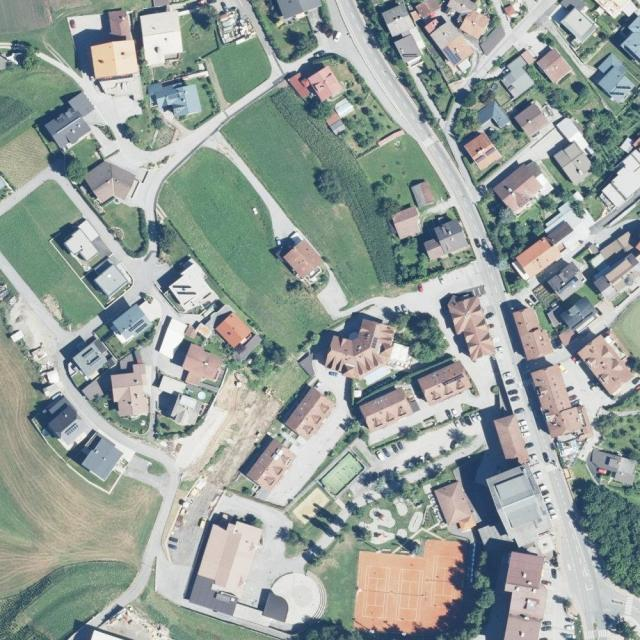building: (188, 515, 263, 618), (562, 315, 640, 405), (485, 462, 557, 552), (529, 359, 594, 450), (323, 312, 397, 387), (67, 6, 139, 78), (153, 253, 222, 323), (444, 288, 498, 364), (491, 156, 555, 219), (32, 393, 93, 456), (238, 433, 299, 495), (505, 552, 546, 639), (79, 155, 138, 213), (283, 386, 337, 443), (510, 231, 568, 284), (108, 351, 151, 420), (428, 18, 480, 75), (588, 52, 640, 107), (510, 303, 555, 362), (139, 11, 185, 68), (358, 387, 414, 433), (417, 360, 473, 406), (42, 103, 93, 153), (147, 75, 201, 122), (529, 363, 574, 419), (60, 218, 109, 267), (76, 432, 124, 482), (210, 2, 257, 51), (179, 343, 226, 392), (494, 54, 541, 101), (89, 38, 139, 82), (492, 413, 531, 469), (432, 479, 476, 528), (551, 140, 596, 187), (108, 304, 153, 348), (72, 338, 117, 382), (555, 115, 596, 161), (282, 238, 325, 281), (546, 261, 589, 303), (305, 64, 346, 106), (462, 131, 503, 173), (214, 311, 255, 352), (559, 6, 599, 46), (98, 73, 145, 107), (535, 46, 574, 86), (433, 218, 471, 259), (473, 99, 512, 138), (514, 101, 552, 140), (168, 392, 205, 431), (146, 348, 187, 383), (92, 263, 130, 300), (558, 295, 596, 331), (158, 318, 190, 360), (457, 6, 493, 42), (380, 3, 415, 39), (429, 19, 463, 52), (390, 207, 424, 240), (393, 33, 425, 68), (286, 70, 316, 101), (277, 0, 321, 21), (67, 90, 96, 120), (107, 9, 132, 42), (409, 179, 436, 209), (544, 219, 573, 246), (614, 457, 640, 487), (157, 375, 187, 398), (422, 236, 446, 262), (324, 111, 347, 136), (332, 96, 356, 119), (193, 321, 214, 340), (447, 1, 478, 13), (634, 242, 640, 252)
greenland: (146, 138, 347, 363), (0, 324, 160, 597), (220, 92, 404, 309), (268, 73, 421, 288), (289, 540, 535, 640), (0, 177, 135, 338), (0, 535, 147, 640), (349, 0, 440, 136), (298, 524, 375, 629), (475, 190, 557, 273), (374, 290, 457, 371), (204, 31, 278, 105), (434, 73, 507, 143), (330, 90, 399, 158), (116, 100, 179, 163), (0, 126, 57, 190), (321, 46, 373, 104), (40, 14, 94, 69), (414, 57, 461, 118), (571, 11, 619, 66), (558, 174, 607, 226), (177, 14, 219, 73), (243, 335, 292, 384), (484, 113, 531, 161), (318, 451, 366, 498), (581, 106, 627, 155), (540, 80, 592, 115), (0, 0, 53, 34), (309, 163, 346, 209), (291, 486, 331, 526), (6, 33, 45, 73), (70, 132, 107, 170), (79, 0, 153, 13), (344, 60, 372, 92), (308, 514, 341, 541), (274, 525, 307, 550), (64, 155, 90, 184), (542, 158, 554, 171)
metalled_road: (437, 231, 640, 640), (312, 0, 503, 246), (91, 112, 237, 224), (264, 359, 363, 518), (49, 253, 181, 364), (94, 455, 183, 612), (201, 130, 298, 243), (467, 0, 560, 94), (387, 258, 491, 332), (92, 419, 190, 477), (70, 78, 146, 135), (307, 265, 353, 322), (68, 600, 125, 640), (224, 78, 276, 121), (263, 43, 281, 72)
unmetalled_road: (36, 48, 85, 84), (201, 58, 231, 111), (0, 42, 11, 50)
